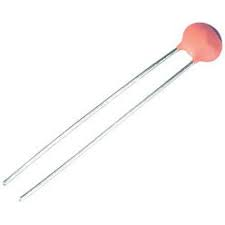ceramic capacitor: (160, 11, 225, 72)
